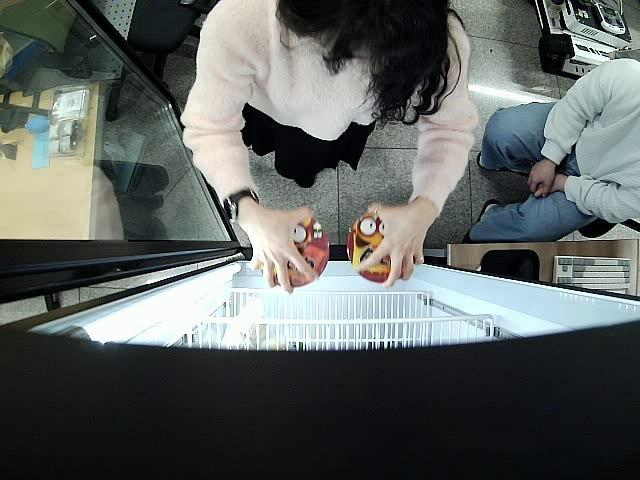05_nuguri_L: (260, 218, 329, 288), (348, 214, 413, 280)
